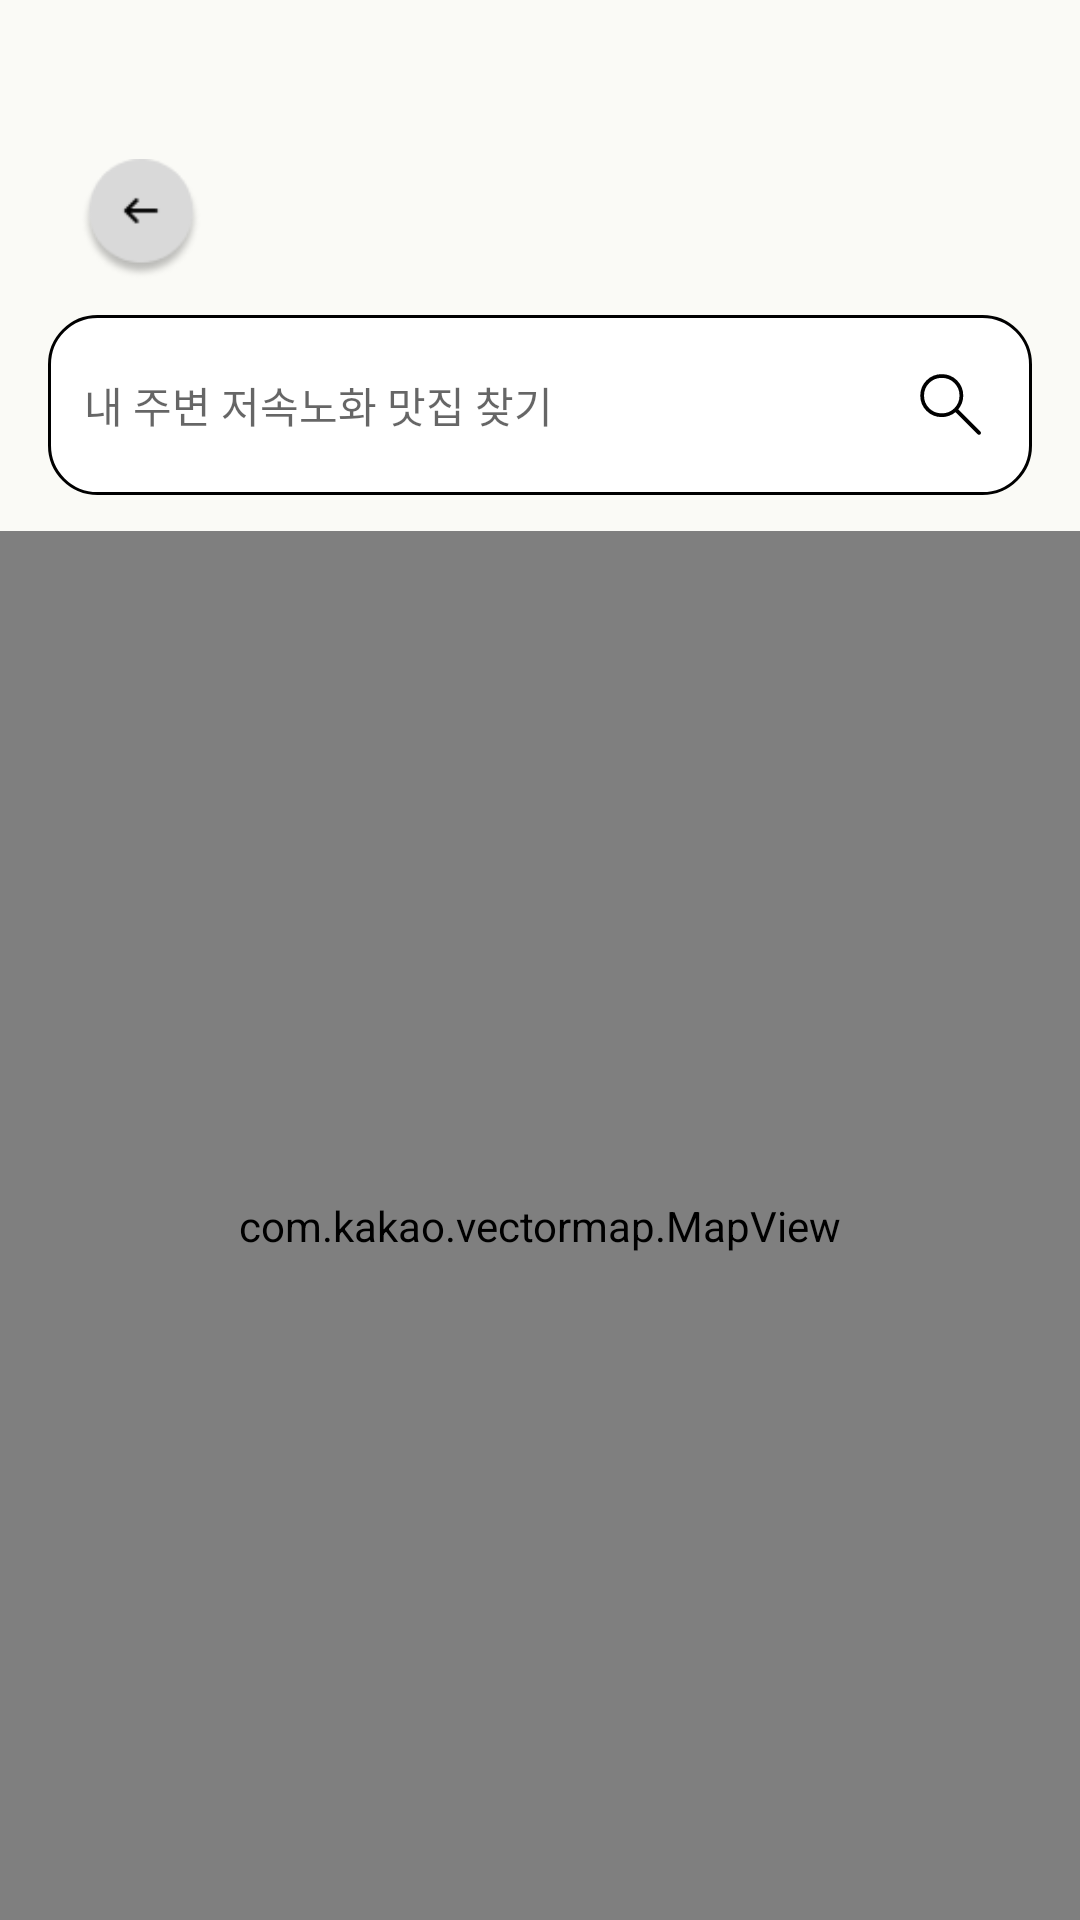

Point at icon controls on the screen. Image size 1080px x 1920px, points as (x,y).
Back: (141,215)
search: (950,404)
